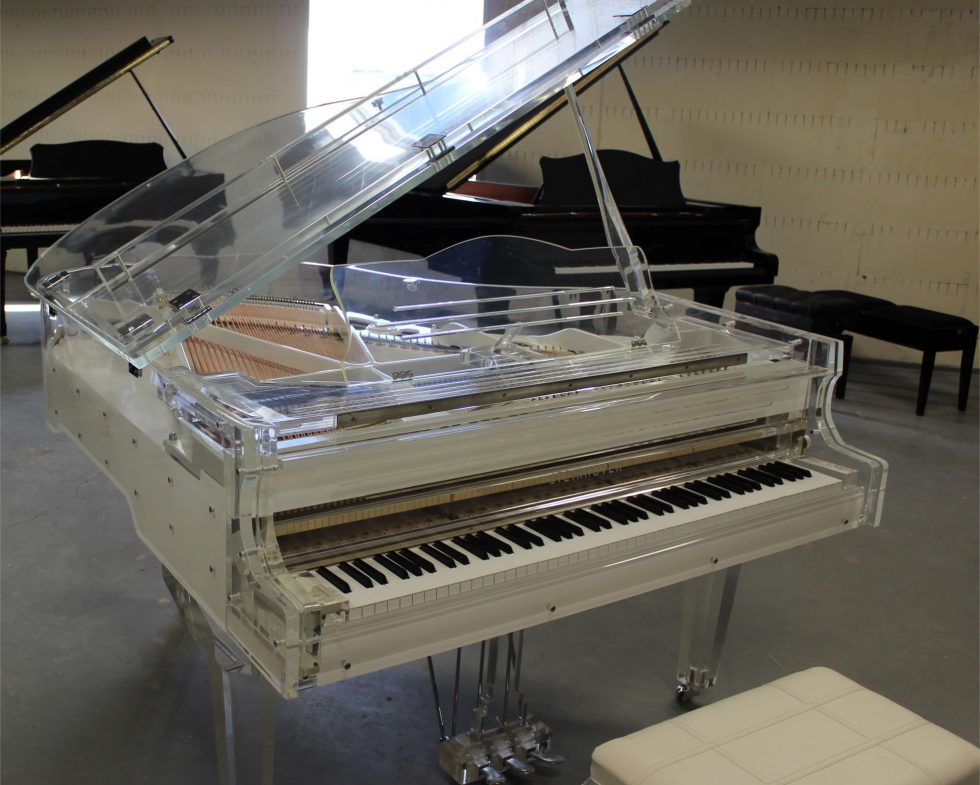GrandPiano: (38, 110, 918, 641)
